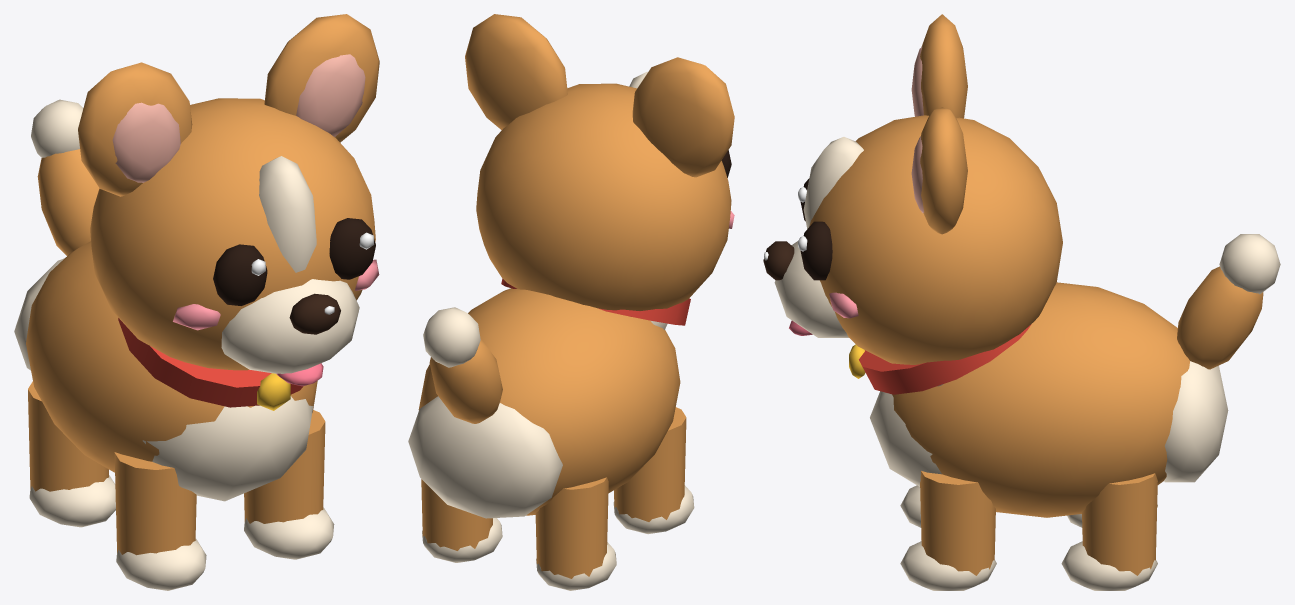
Rendered from dog.glb.
The picture shows the model from 3 angles, left to right: view 1: azimuth 30°, elevation 25°; view 2: azimuth 150°, elevation 25°; view 3: azimuth 270°, elevation 25°; orthographic projection. The views are drawn at different scales.
Visible parts, largest first — view 1: Dog_Head, Dog_Body, Dog_Ear_L, Dog_Ear_R, Dog_Leg_FL, Dog_Leg_FR, Dog_Leg_BL, Dog_Tail; view 2: Dog_Head, Dog_Body, Dog_Ear_L, Dog_Ear_R, Dog_Leg_BL, Dog_Tail, Dog_Leg_FL, Dog_Leg_BR; view 3: Dog_Body, Dog_Head, Dog_Leg_FR, Dog_Tail, Dog_Leg_BR, Dog_Ear_R, Dog_Ear_L.
Part boxes in pixels (x1,y1,x2,y2): Dog_Head: (90, 98, 379, 386); Dog_Body: (14, 241, 317, 501); Dog_Ear_L: (78, 62, 192, 196); Dog_Ear_R: (264, 14, 379, 142); Dog_Leg_FL: (114, 452, 206, 590); Dog_Leg_FR: (244, 410, 334, 559); Dog_Leg_BL: (28, 381, 115, 527); Dog_Tail: (31, 99, 99, 255); Dog_Head: (476, 71, 734, 310); Dog_Body: (408, 278, 690, 518); Dog_Ear_L: (632, 57, 734, 177); Dog_Ear_R: (465, 14, 567, 130); Dog_Leg_BL: (535, 477, 616, 590); Dog_Tail: (423, 307, 502, 423); Dog_Leg_FL: (613, 407, 694, 534); Dog_Leg_BR: (421, 479, 502, 562); Dog_Body: (849, 282, 1228, 517); Dog_Head: (763, 115, 1062, 364); Dog_Leg_FR: (900, 471, 996, 590); Dog_Tail: (1177, 234, 1280, 369); Dog_Leg_BR: (1061, 473, 1157, 590); Dog_Ear_R: (911, 107, 967, 234); Dog_Ear_L: (911, 14, 967, 118).
Bounding box in the file's own units: 0.402 × 0.6737 × 0.642.
